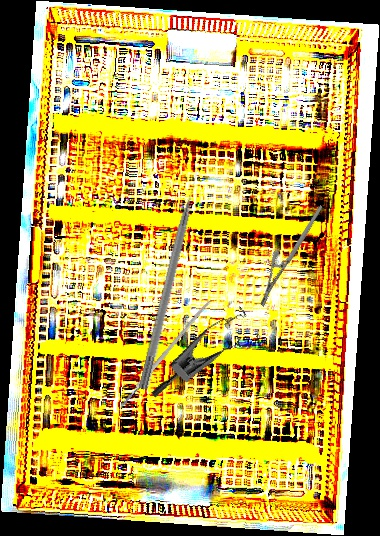Needle Holder: (236, 204, 348, 308)
Pusher: (137, 170, 205, 391)
Scalpel Handle: (118, 297, 213, 409)
Speculum: (150, 293, 269, 428)
